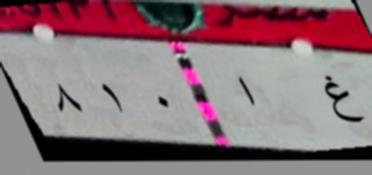0: (147, 86, 180, 126)
1: (98, 76, 128, 120)
8: (47, 78, 84, 118)
alif: (228, 68, 262, 110)
ghayn: (316, 72, 366, 134)
